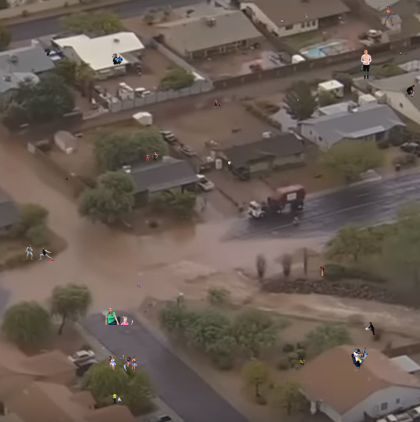Human: (25, 244, 55, 261), (105, 307, 133, 325), (108, 355, 137, 372), (351, 347, 368, 369), (360, 49, 372, 79), (381, 6, 396, 26), (281, 14, 308, 24), (111, 394, 130, 404), (144, 152, 158, 162), (112, 53, 123, 65), (405, 85, 415, 98), (365, 322, 375, 335), (298, 356, 305, 368), (214, 99, 221, 109), (320, 265, 325, 276), (228, 160, 232, 169), (400, 51, 407, 55), (46, 51, 51, 56), (64, 176, 69, 180), (137, 284, 141, 288), (232, 40, 234, 45), (290, 184, 293, 187), (297, 99, 299, 102), (145, 310, 146, 314), (81, 115, 82, 118), (119, 9, 120, 12)
